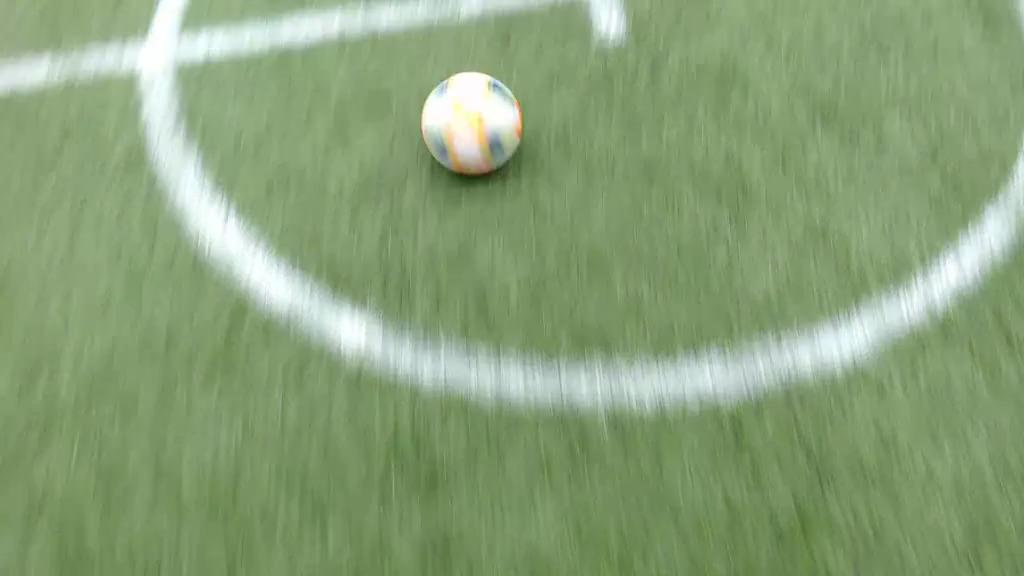ball: (424, 71, 523, 178)
